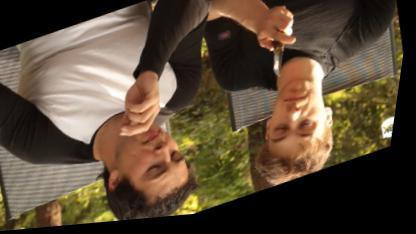knife: (248, 15, 315, 93)
